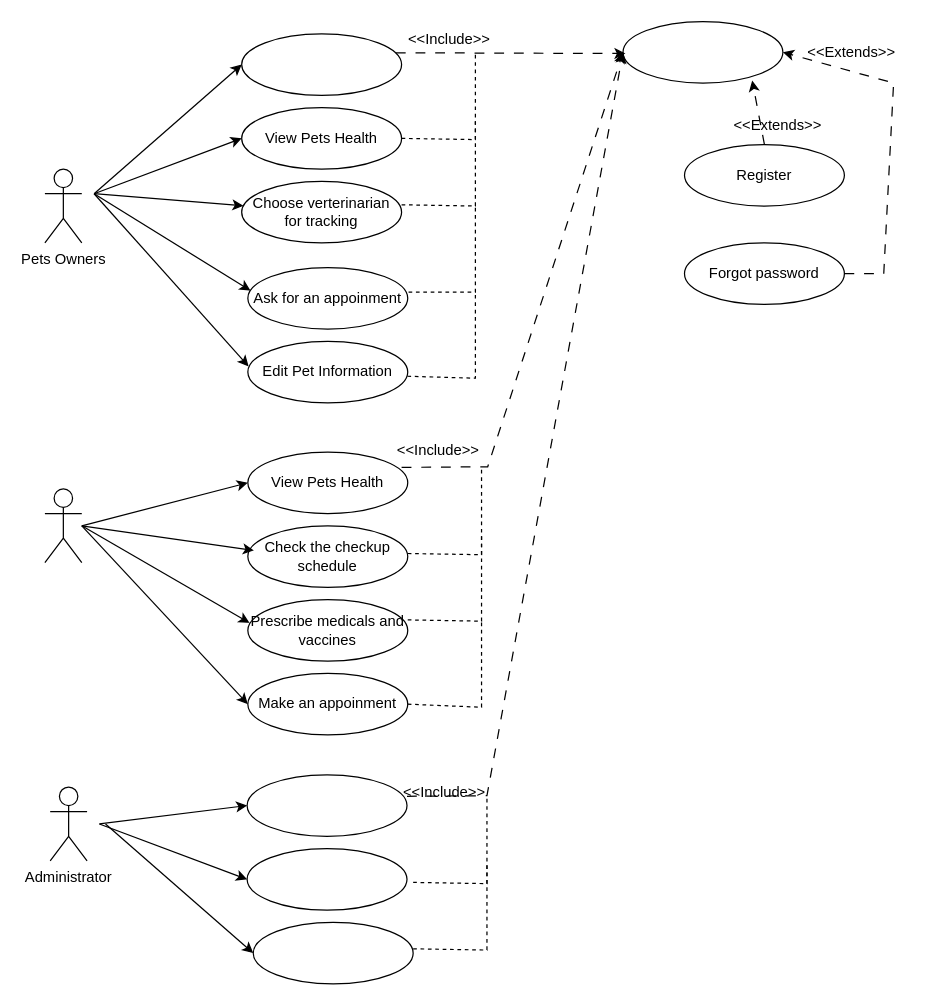
Some shapes in this 925 by 1006 pixel diagram are drawn without their labels. The shapes that lost their labels are listed below. From the top down, each one's centre as x and y in pixels, then its label:
the point at 321,64: Add Pet
the point at 702,51: Log In
the point at 63,525: Verterinarian
the point at 326,805: Management Pet's Owner
the point at 326,878: Management Verterinarians
the point at 332,952: Check users eligibility to be an verterinarian
